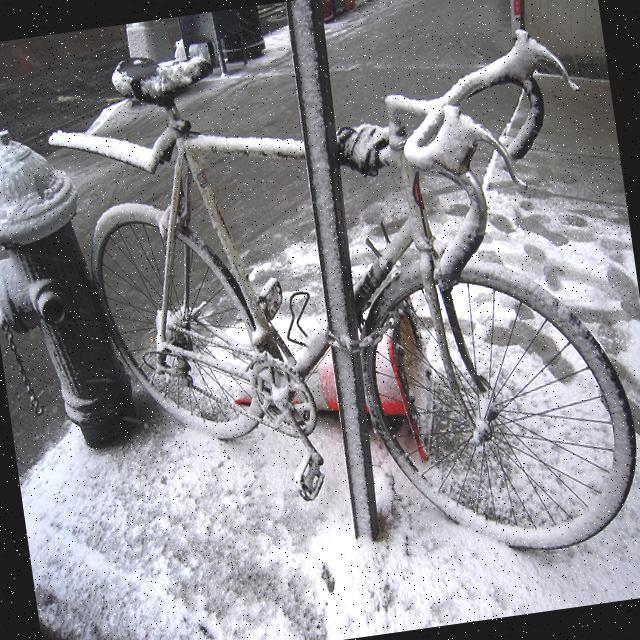fire_hydrant: (0, 114, 139, 458)
